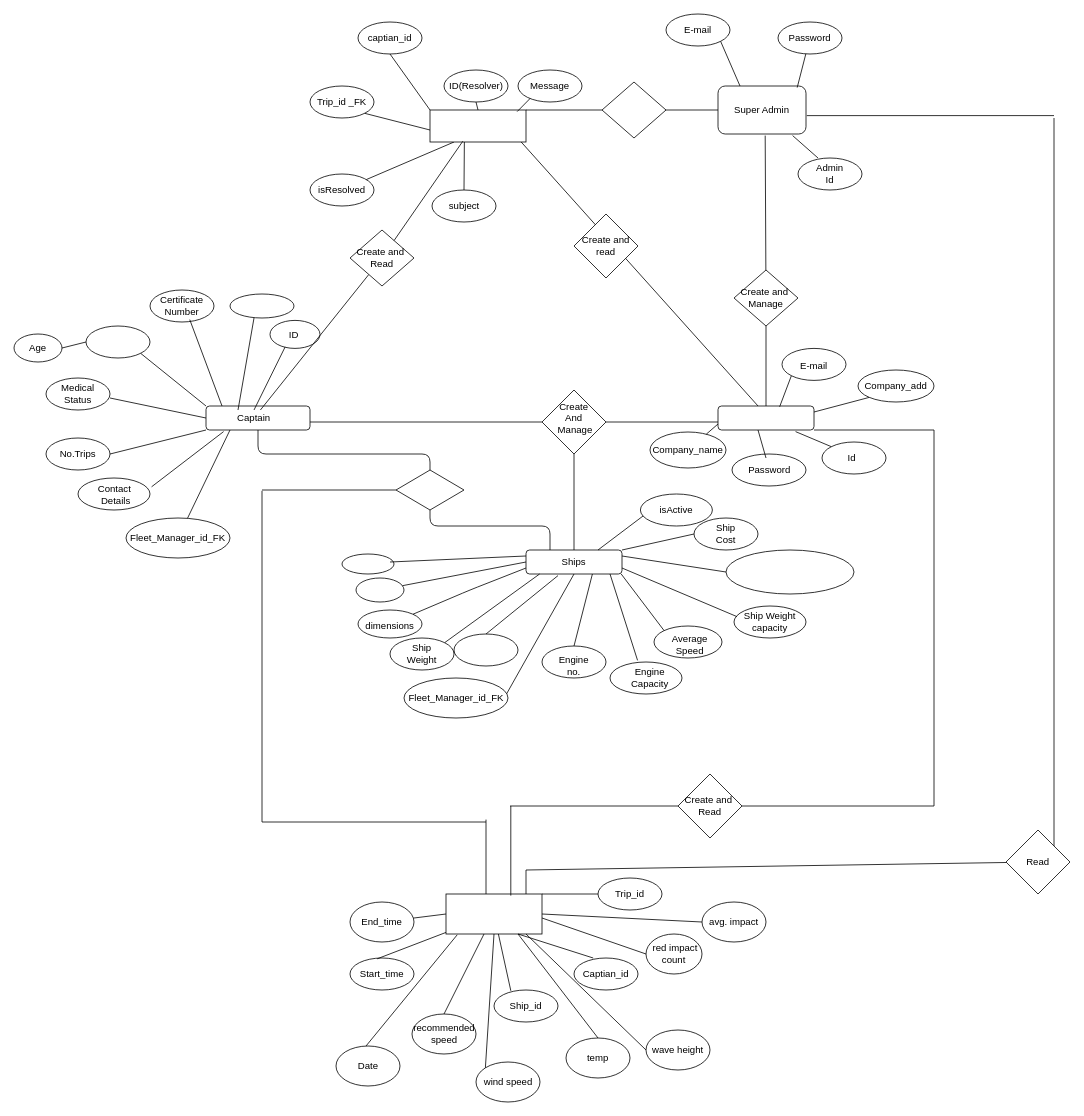
Some shapes in this 1084 by 1116 pixel diagram are drawn without their labels. Each missing label, with the centre of its shape:
"Curr date-Purchase date=Age" belongs at point 789,571.
"D.O.B" belongs at point 117,341.
"Fleet Manager" belongs at point 765,417.
"Fuel Capacity" belongs at point 485,649.
"Has (Read)" belongs at point 429,489.
"Help" belongs at point 477,125.
"Length" belongs at point 379,589.
"Model no." belongs at point 367,563.
"Name" belongs at point 261,305.
"Reply" belongs at point 633,109.
"Trip" belongs at point 493,913.
